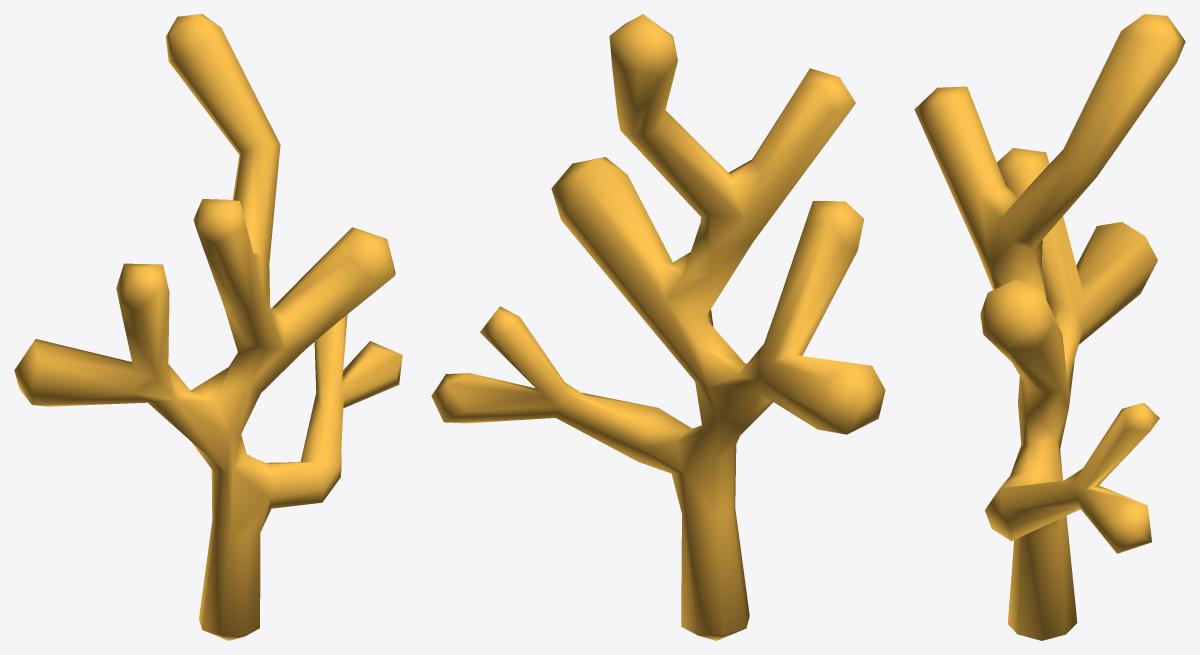
Rendered from D_CoralReef.108.glb.
3 views of the same model, side by side, from view 1: azimuth 30°, elevation 25°; view 2: azimuth 150°, elevation 25°; view 3: azimuth 270°, elevation 25° (orthographic). The views are drawn at different scales.
Parts seen in each view (by area): view 1: D_CoralReef.108; view 2: D_CoralReef.108; view 3: D_CoralReef.108.
Part boxes in pixels (box(x1,y1,x2,y2)): D_CoralReef.108: box(14, 14, 402, 640); D_CoralReef.108: box(431, 14, 885, 640); D_CoralReef.108: box(914, 14, 1185, 640).
Bounding box in the file's own units: 0.4645 × 0.6826 × 0.2637.
Materials: 1 (1 with a texture image).
